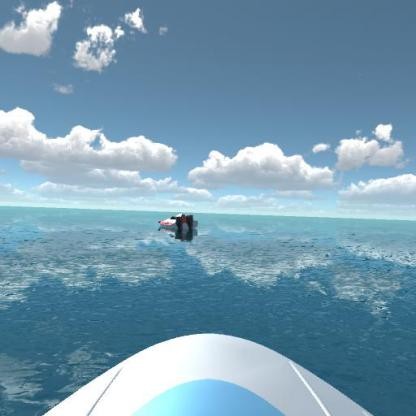usv3: (158, 207, 200, 243)
